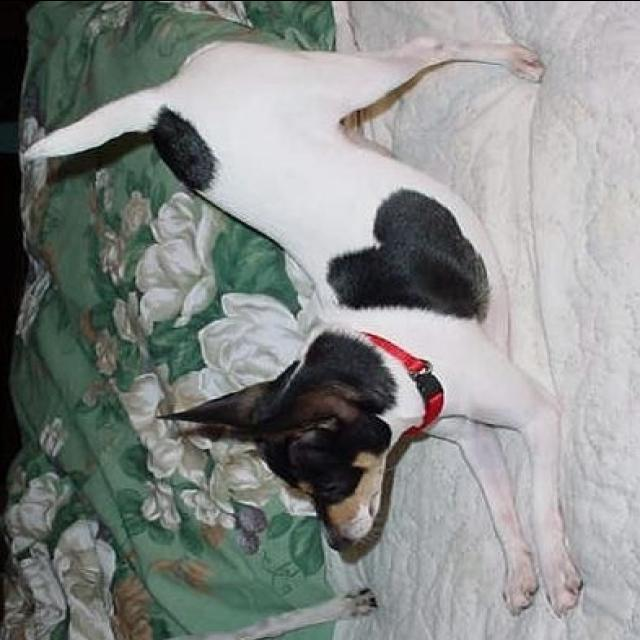toy_terrier: (22, 33, 584, 620)
